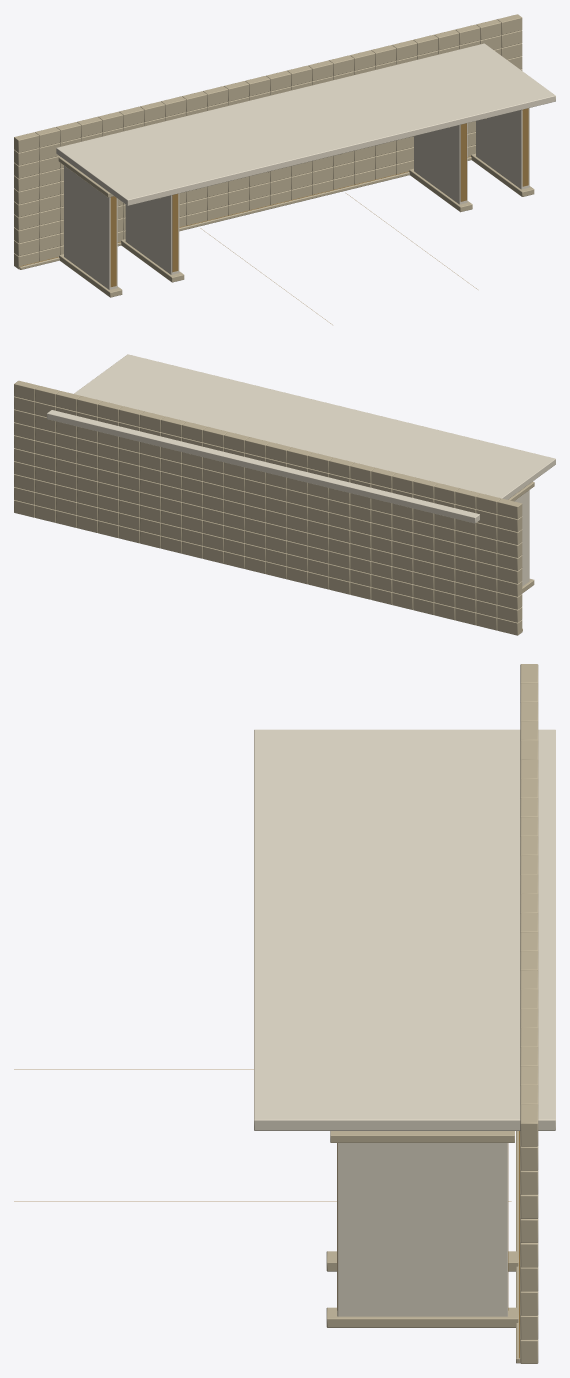
File: limestone_atrium.glb
3 views of the same model, one above another, from view 1: azimuth 30°, elevation 25°; view 2: azimuth 150°, elevation 25°; view 3: azimuth 270°, elevation 25° (orthographic). The views are drawn at different scales.
Parts seen in each view (by area): view 1: Detail.limestone_atrium.Ivory, Detail.limestone_atrium.Stone, Detail.limestone_atrium.Brass; view 2: Detail.limestone_atrium.Stone, Detail.limestone_atrium.Ivory; view 3: Detail.limestone_atrium.Ivory, Detail.limestone_atrium.Stone, Detail.limestone_atrium.Brass.
Boxes of the visible parts, x1,y1,x2,y2 form: Detail.limestone_atrium.Ivory: (56, 43, 555, 289); Detail.limestone_atrium.Stone: (14, 14, 534, 297); Detail.limestone_atrium.Brass: (19, 108, 528, 324); Detail.limestone_atrium.Stone: (14, 380, 534, 635); Detail.limestone_atrium.Ivory: (47, 354, 555, 586); Detail.limestone_atrium.Ivory: (254, 729, 555, 1316); Detail.limestone_atrium.Stone: (326, 664, 538, 1363); Detail.limestone_atrium.Brass: (14, 1069, 519, 1358).
Bounding box in the file's own units: 61.17 × 15.06 × 30.5.
